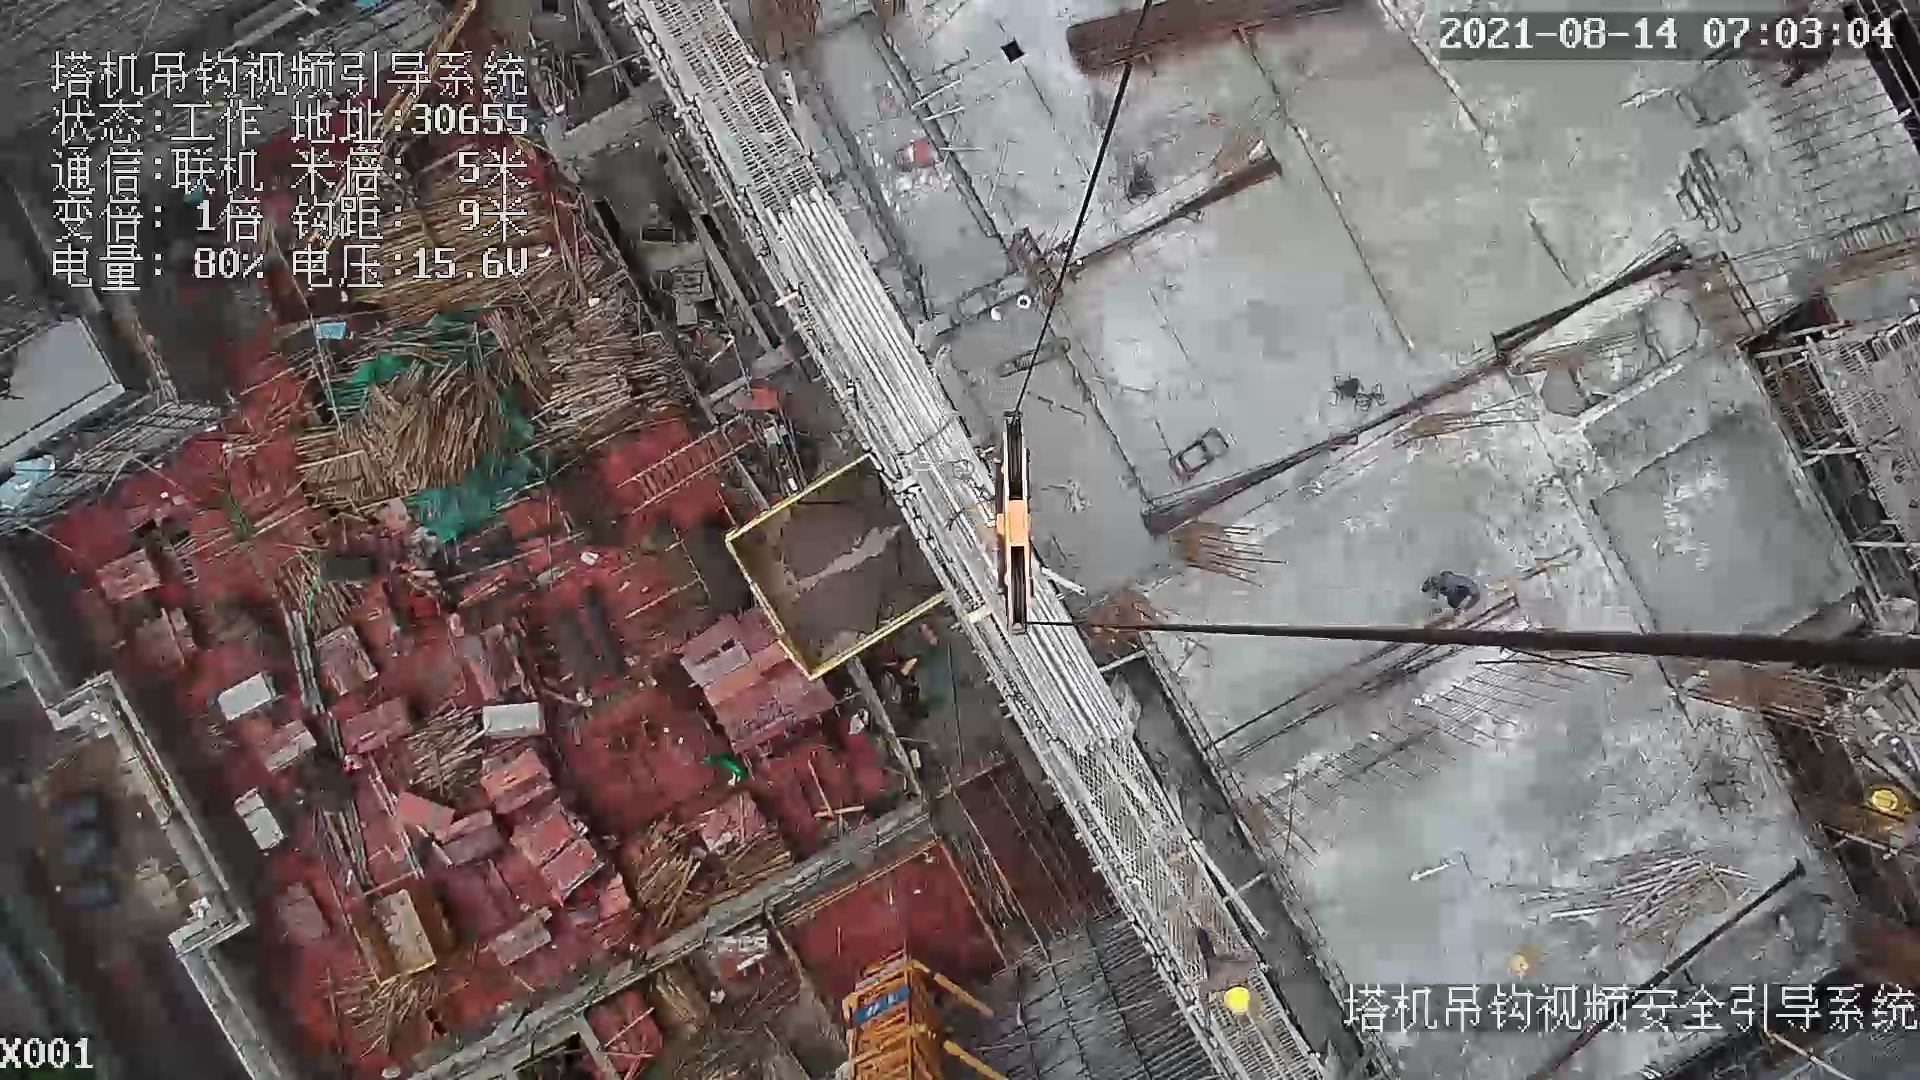helmet: (1224, 986, 1251, 1016)
hook: (990, 408, 1038, 633)
person: (1197, 930, 1264, 1017), (1420, 571, 1483, 612)
slogan: (847, 983, 907, 1026)
